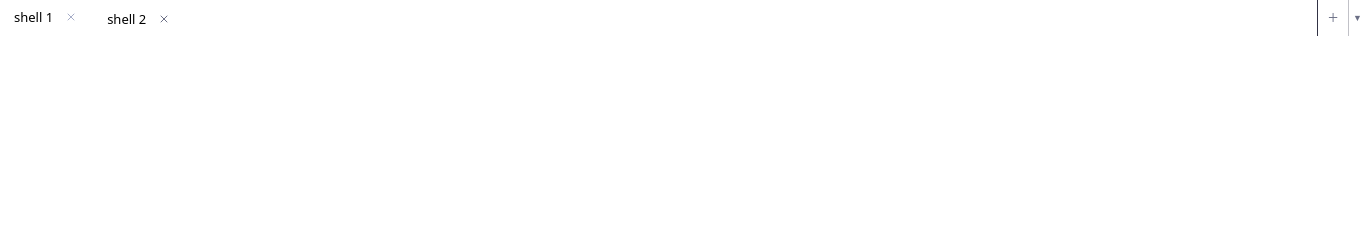
Test case: TabBar › shows context menu on right click and supports layout changes
The main container is the first child div of the fragment/container
Right-click the element showing "shell 1 shell 2 + ▼".
right_click(34, 17)  # box left=0, top=0, right=1365, bottom=36
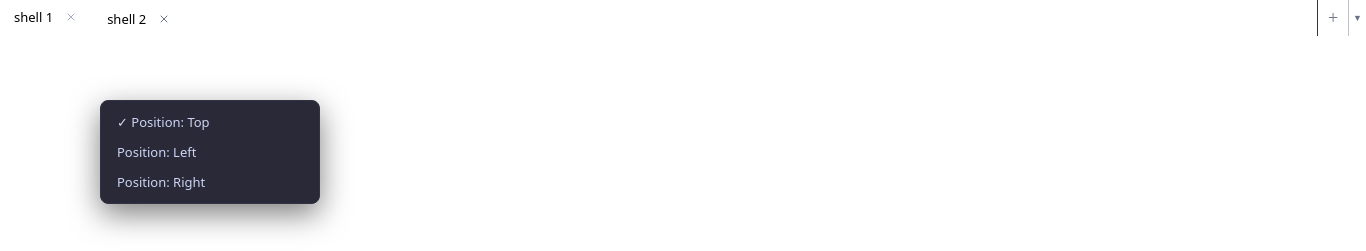
Check: the text "✓ Position: Top" is shown, box left=117, top=113, right=210, bottom=131
Check: the text "Position: Left" is shown, box left=117, top=143, right=196, bottom=161
Check: the text "Position: Right" is shown, box left=117, top=173, right=205, bottom=191
